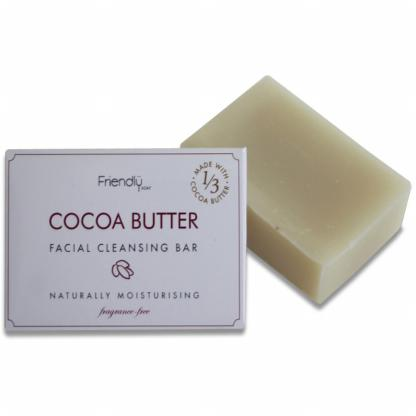soap: (167, 67, 415, 312)
